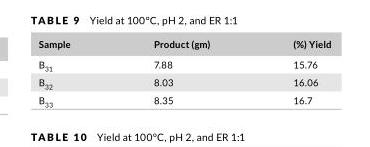table: (37, 37, 330, 107)
table column: (111, 37, 250, 107), (250, 37, 330, 107), (37, 37, 111, 107)
table column header: (37, 37, 330, 53)
table row: (37, 53, 330, 73), (37, 73, 330, 91), (37, 37, 330, 53), (37, 91, 330, 107)
